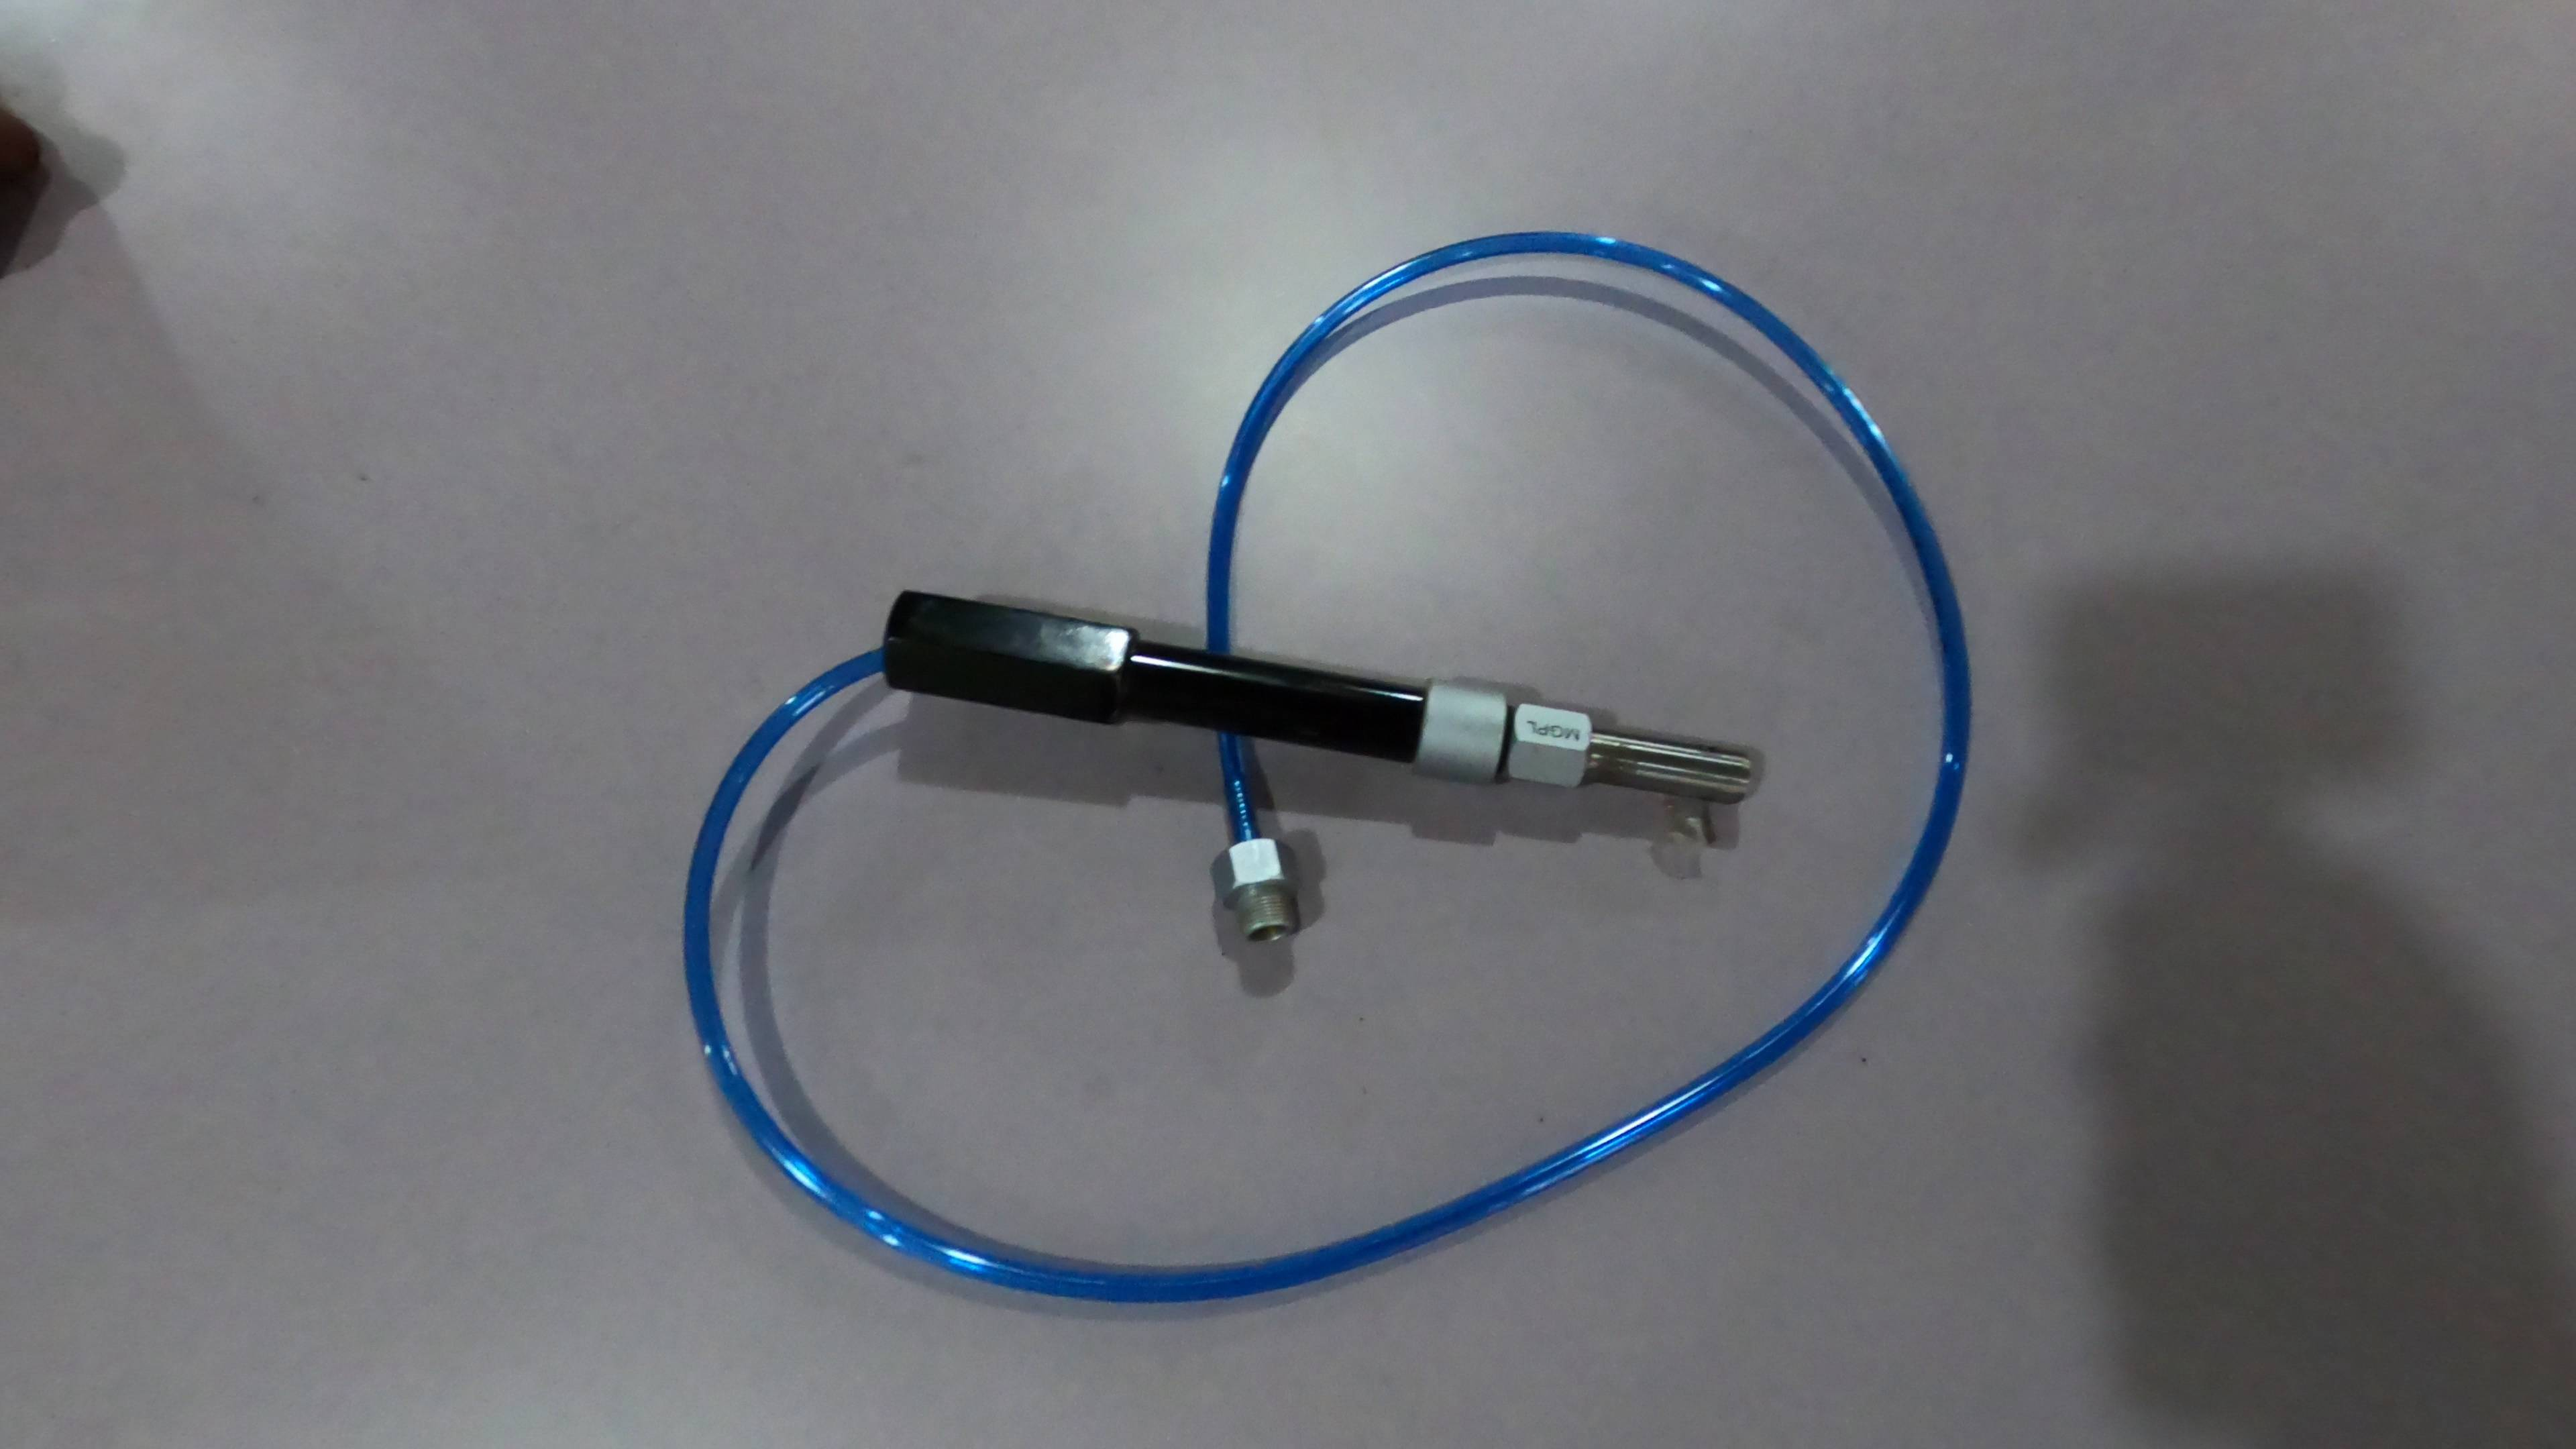air_gauge: (879, 563, 1767, 824)
